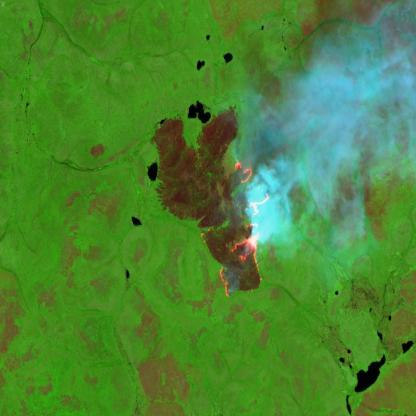fire: (218, 159, 272, 298)
